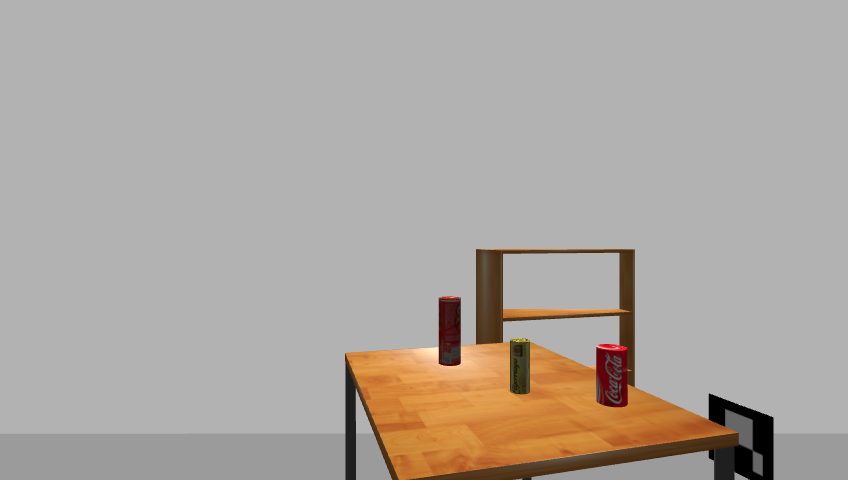aruco marker: (702, 392, 780, 480)
biscuits pack: (508, 338, 532, 396)
bookshelf: (471, 245, 641, 417)
coke can: (593, 343, 630, 408)
dinner table: (339, 342, 748, 480)
pringles can: (436, 295, 463, 368)
